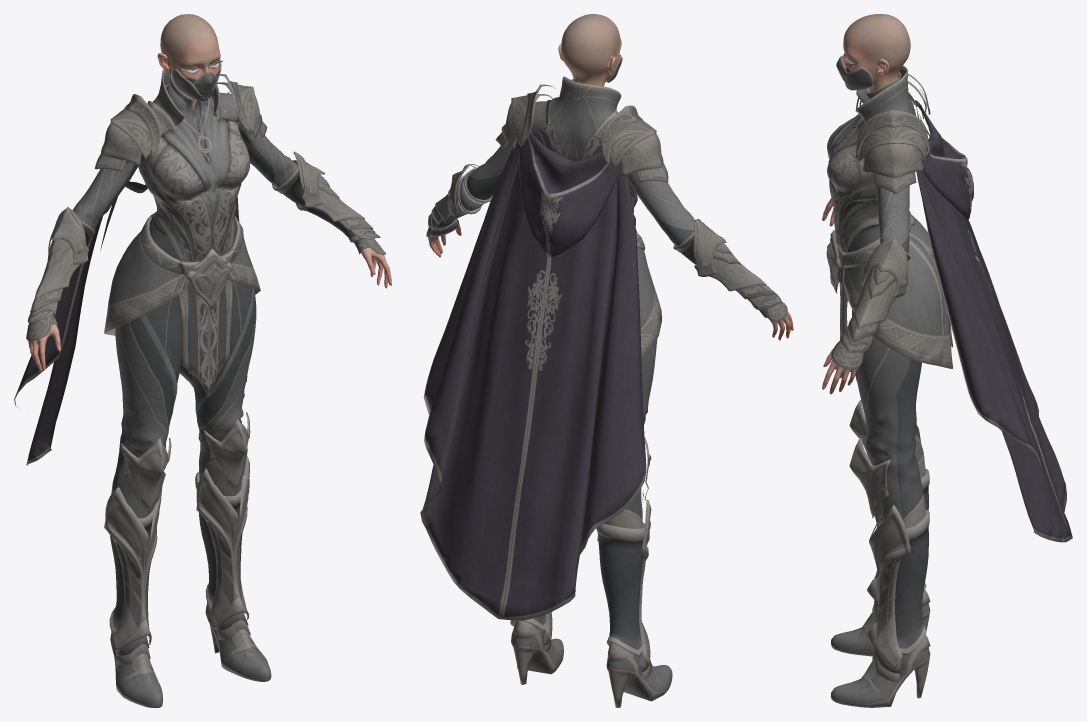
The picture shows the model from 3 angles, left to right: view 1: azimuth 30°, elevation 25°; view 2: azimuth 150°, elevation 25°; view 3: azimuth 270°, elevation 25°; orthographic projection.
Visible parts, largest first — view 1: GF_0040_T04_Body, GF_0040_T04_Boots, GF_0040_T04_Pants, GF_0040_T04_Glove, GF_0040_T04_Cape, GF_0040_T04_Shoulder, GF_BaseHead, GF_0040_T04_Helmet; view 2: GF_0040_T04_Cape, GF_0040_T04_Body, GF_0040_T04_Boots, GF_0040_T04_Glove, GF_0040_T04_Shoulder, GF_BaseHead, GF_0040_T04_Pants; view 3: GF_0040_T04_Cape, GF_0040_T04_Body, GF_0040_T04_Boots, GF_0040_T04_Pants, GF_0040_T04_Shoulder, GF_0040_T04_Glove, GF_BaseHead, GF_0040_T04_Helmet.
Part boxes in pixels (x1=…): GF_0040_T04_Body: x1=28, y1=69, x2=391, y2=395; GF_0040_T04_Boots: x1=104, y1=412, x2=271, y2=707; GF_0040_T04_Pants: x1=111, y1=281, x2=256, y2=518; GF_0040_T04_Glove: x1=26, y1=151, x2=385, y2=340; GF_0040_T04_Cape: x1=14, y1=181, x2=239, y2=465; GF_0040_T04_Shoulder: x1=94, y1=74, x2=267, y2=171; GF_BaseHead: x1=157, y1=14, x2=222, y2=108; GF_0040_T04_Helmet: x1=172, y1=59, x2=221, y2=101; GF_0040_T04_Cape: x1=420, y1=131, x2=646, y2=620; GF_0040_T04_Body: x1=428, y1=76, x2=793, y2=358; GF_0040_T04_Boots: x1=510, y1=437, x2=672, y2=707; GF_0040_T04_Glove: x1=426, y1=164, x2=787, y2=321; GF_0040_T04_Shoulder: x1=495, y1=84, x2=668, y2=182; GF_BaseHead: x1=558, y1=14, x2=621, y2=86; GF_0040_T04_Pants: x1=604, y1=339, x2=657, y2=528; GF_0040_T04_Cape: x1=915, y1=100, x2=1072, y2=542; GF_0040_T04_Body: x1=822, y1=65, x2=952, y2=394; GF_0040_T04_Boots: x1=830, y1=400, x2=930, y2=707; GF_0040_T04_Pants: x1=852, y1=309, x2=925, y2=528; GF_0040_T04_Shoulder: x1=855, y1=74, x2=930, y2=194; GF_0040_T04_Glove: x1=831, y1=238, x2=910, y2=369; GF_BaseHead: x1=842, y1=14, x2=910, y2=91; GF_0040_T04_Helmet: x1=836, y1=55, x2=873, y2=90.
Bounding box in the file's own units: 1.03 × 1.82 × 0.63.
Materials: 10 (9 with a texture image).
